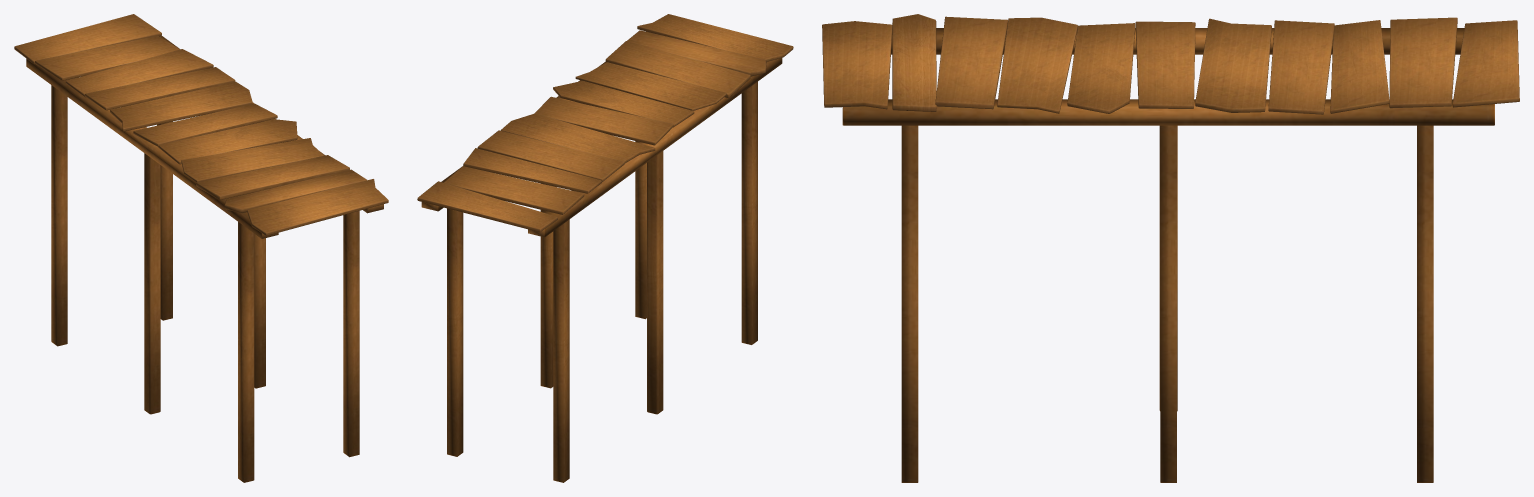
Rendered from SM_Dock_Straight.glb.
3 renders of one model, left to right at view 1: azimuth 30°, elevation 25°; view 2: azimuth 150°, elevation 25°; view 3: azimuth 270°, elevation 25°, orthographic. The views are drawn at different scales.
Visible parts, largest first — view 1: SM_Dock_Straight; view 2: SM_Dock_Straight; view 3: SM_Dock_Straight.
Boxes of the visible parts, left/top/right/bottom form: SM_Dock_Straight: left=14, top=14, right=388, bottom=482; SM_Dock_Straight: left=417, top=14, right=793, bottom=482; SM_Dock_Straight: left=822, top=14, right=1519, bottom=482.
Bounding box in the file's own units: 2.45 × 4.61 × 7.58.
Materials: 2 (2 with a texture image).
